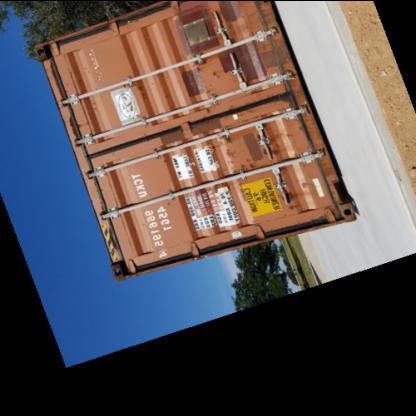Damage: (217, 133, 260, 173), (280, 178, 310, 214), (266, 124, 292, 155), (192, 61, 221, 79)
